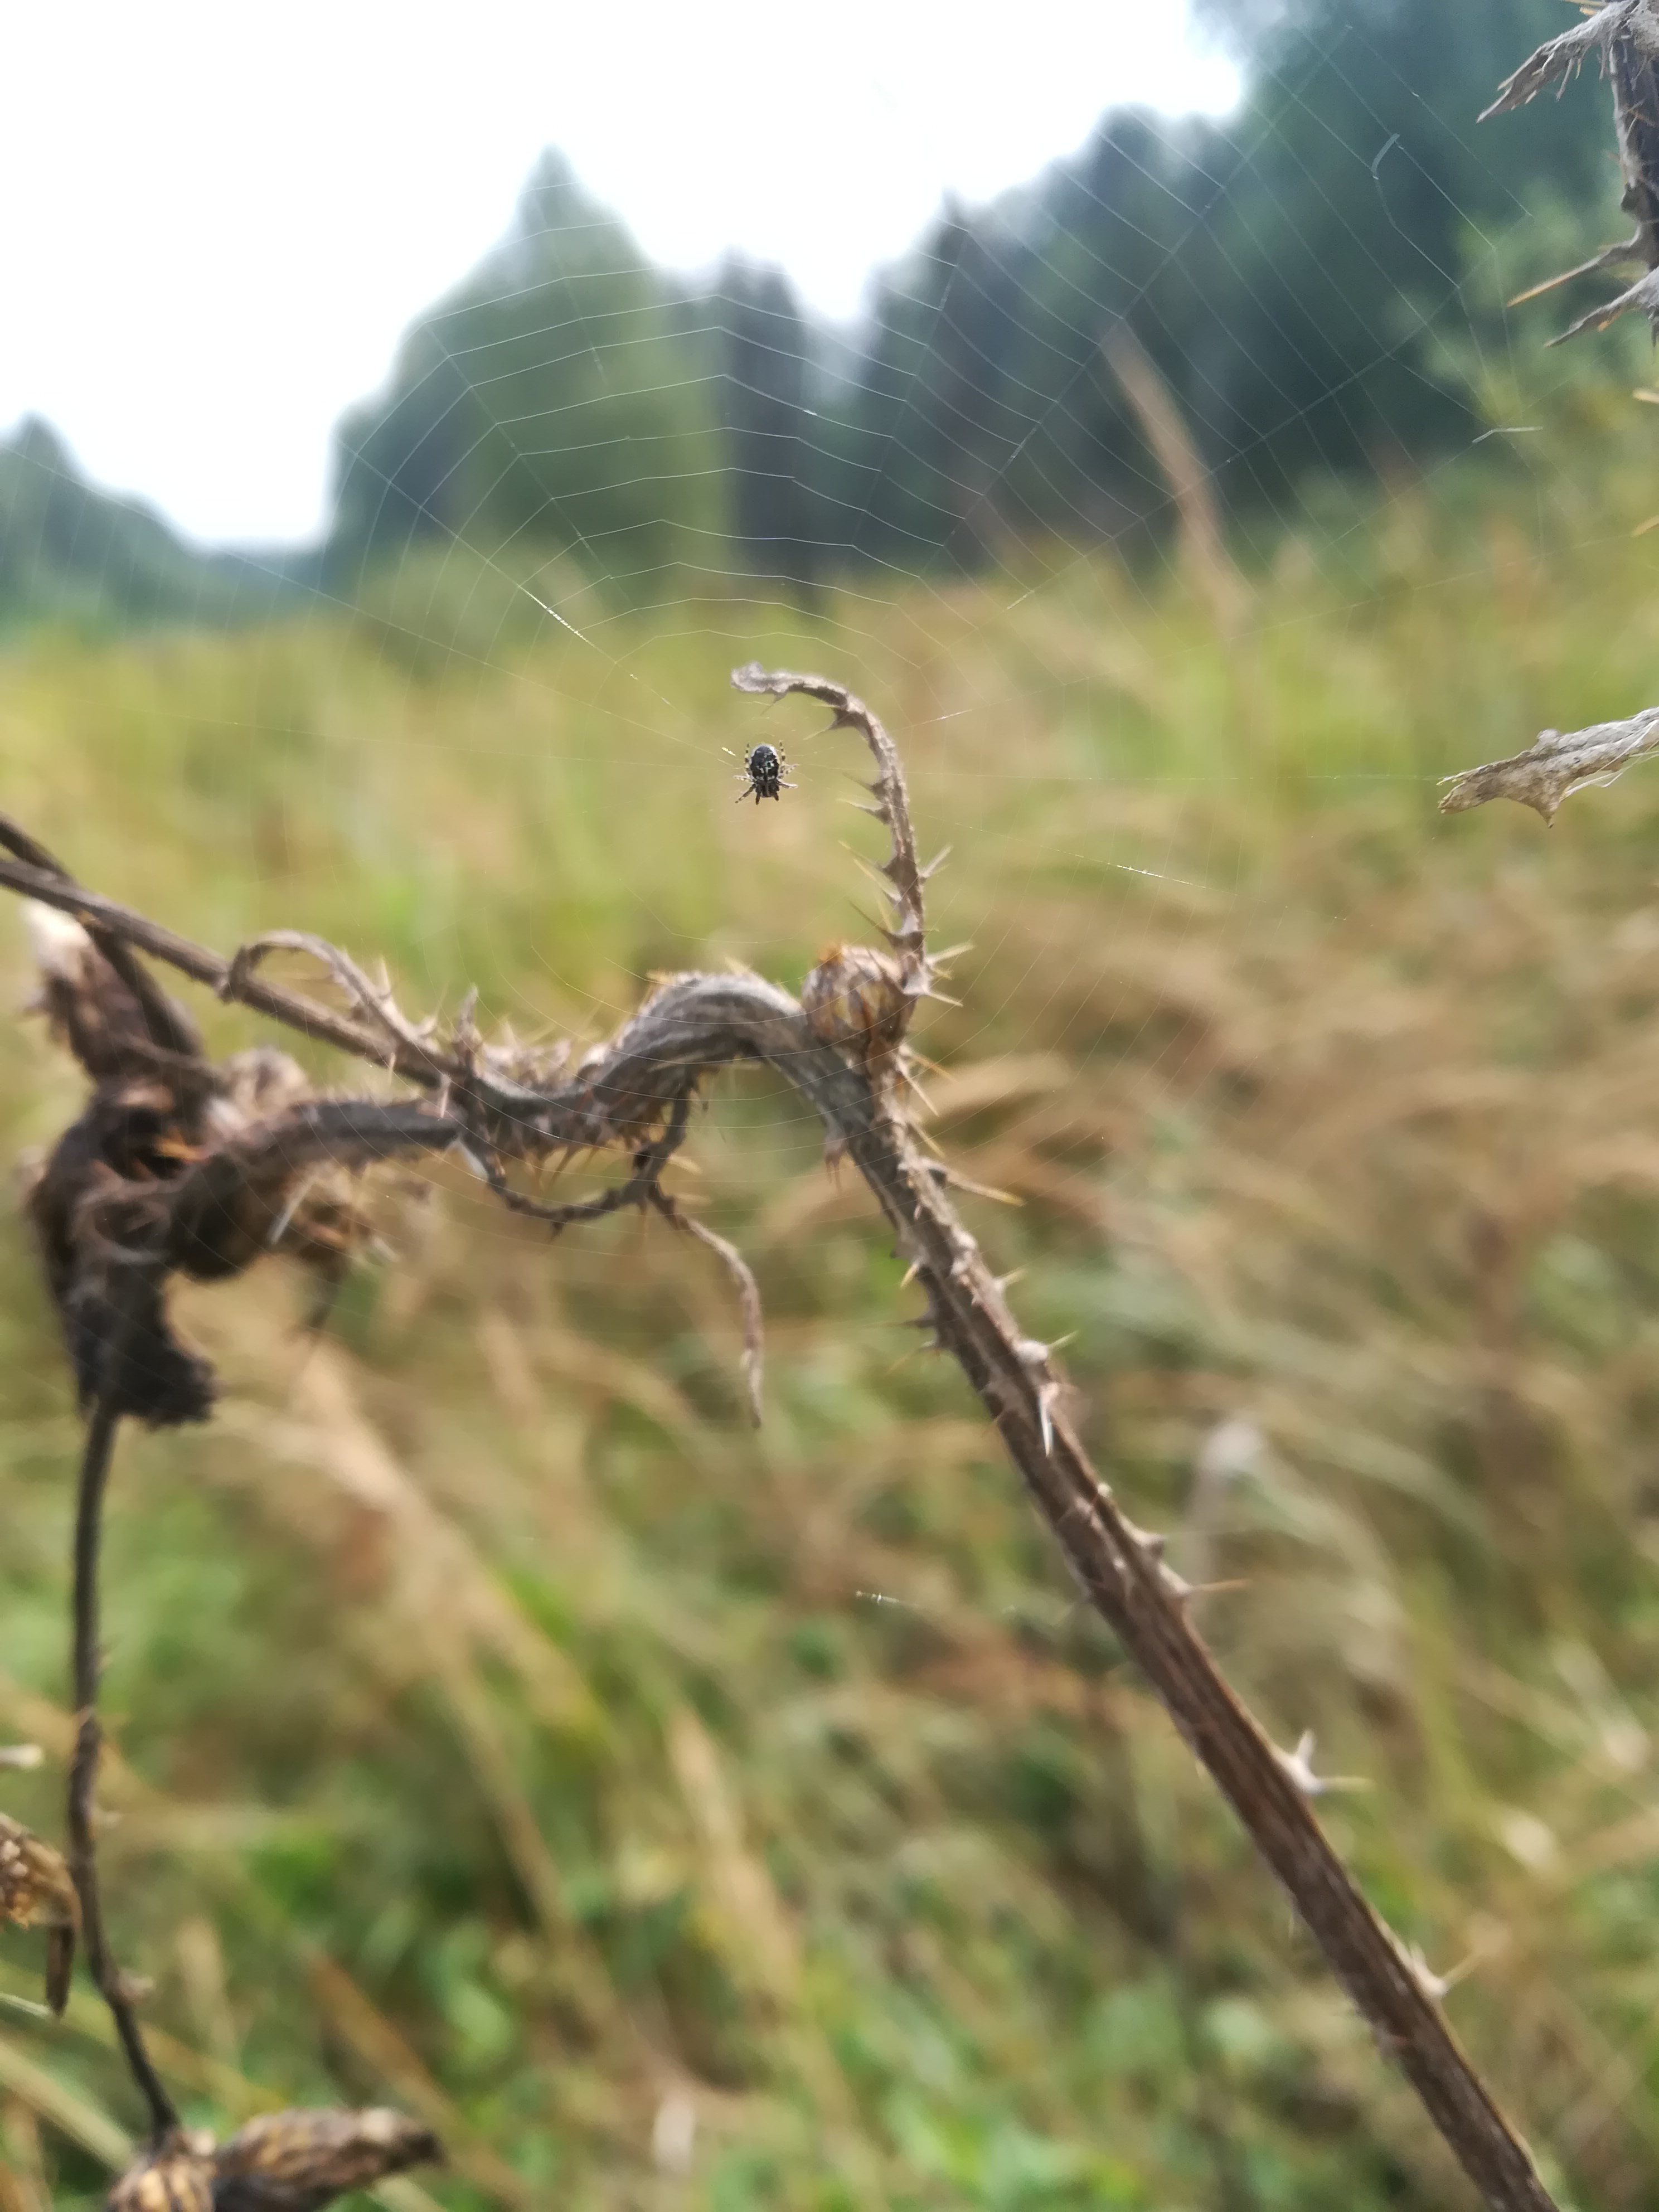spider: (716, 725, 809, 833)
